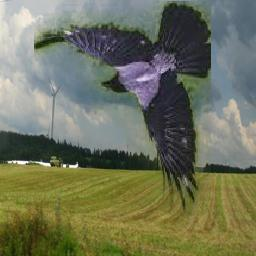Crow: (35, 1, 212, 215)
